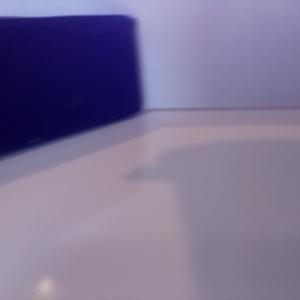zone: (1, 14, 140, 157)
